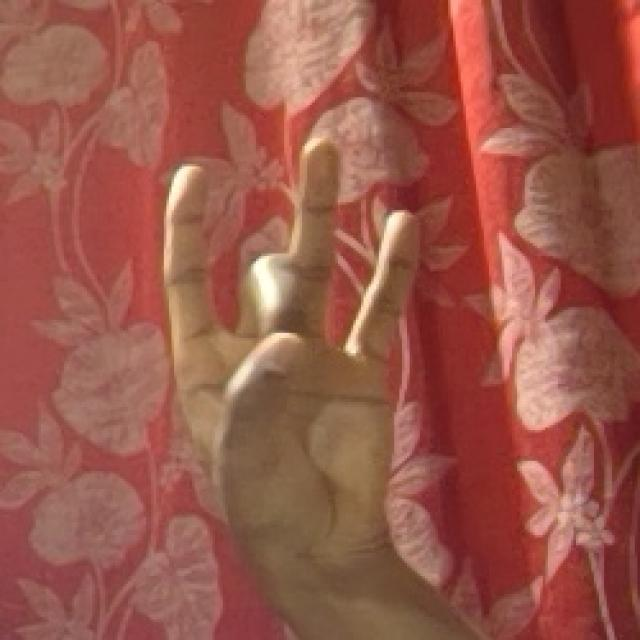Numeric-8: (165, 133, 424, 588)
